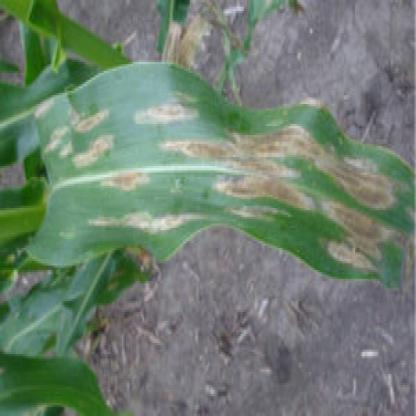Corn leaf blight: (35, 75, 414, 270)
